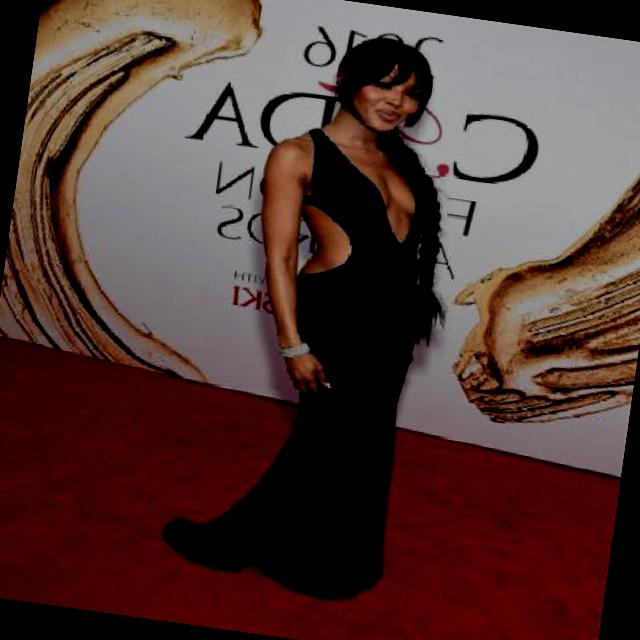Person: (126, 6, 533, 632)
